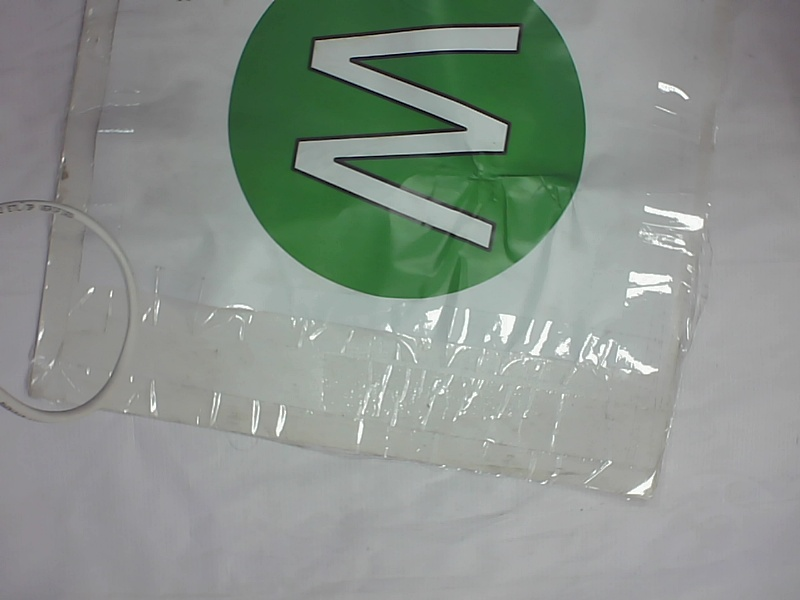areaB: (221, 3, 602, 304)
